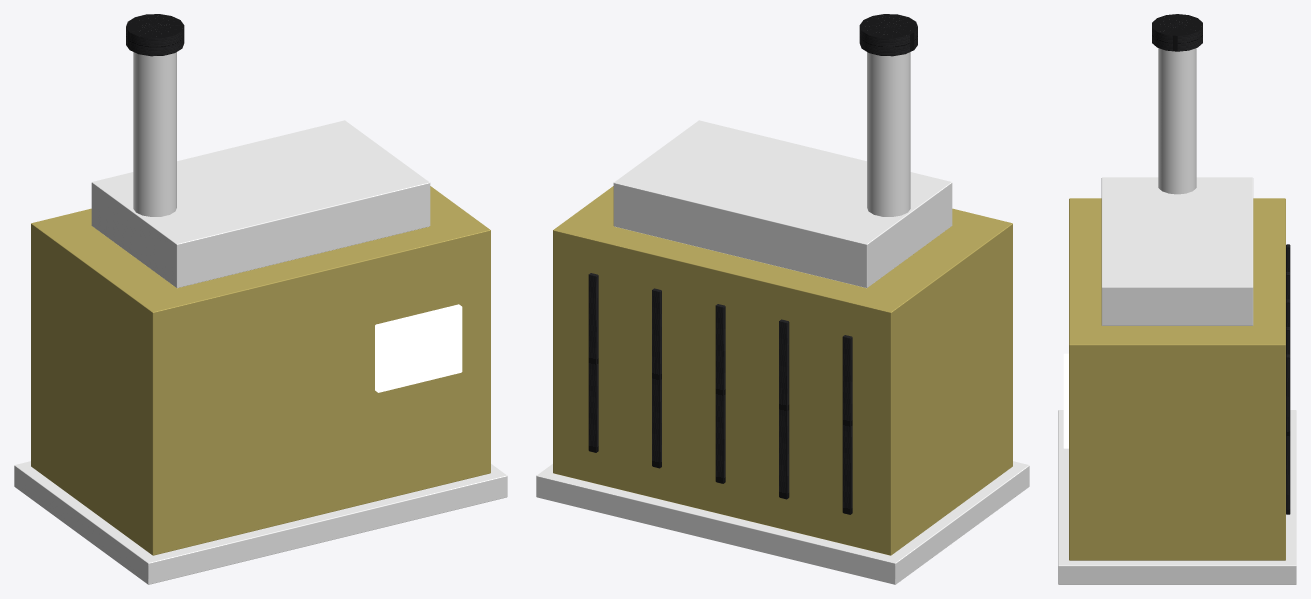
The model's file is generator.glb.
3 renders of one model, left to right at view 1: azimuth 30°, elevation 25°; view 2: azimuth 150°, elevation 25°; view 3: azimuth 270°, elevation 25°, orthographic. The views are drawn at different scales.
Bounding box in the file's own units: 1.7 × 2.22 × 1.1.
4 materials, 1 textured.
